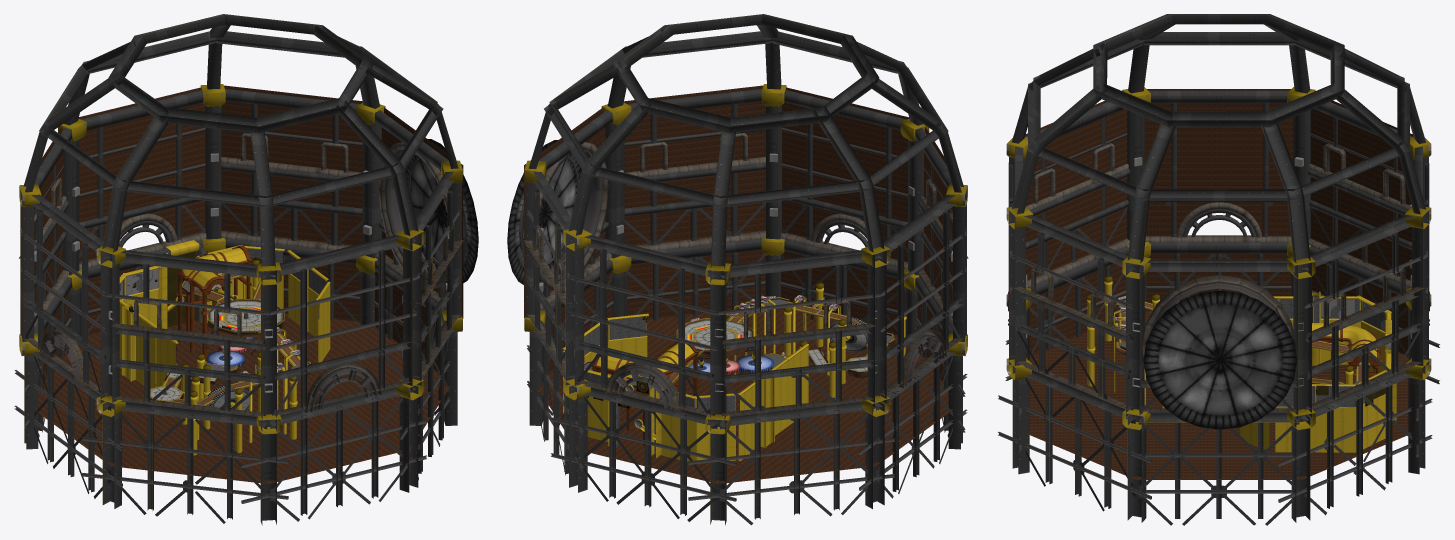
3 renders of one model, left to right at view 1: azimuth 30°, elevation 25°; view 2: azimuth 150°, elevation 25°; view 3: azimuth 270°, elevation 25°, orthographic.
Parts seen in each view (by area): view 1: obj_steelMesh, obj_brickMesh, obj_parts1Mesh, obj_poleMesh, obj_glassMesh, obj_woodwallMesh, obj_clockMesh, obj_metalMesh, obj_roadMesh.001, obj_wallinsideMesh, obj_edgeMesh; view 2: obj_steelMesh, obj_brickMesh, obj_parts1Mesh, obj_poleMesh, obj_glassMesh, obj_metalMesh, obj_clockMesh, obj_woodwallMesh, obj_edgeMesh, obj_gearblueMesh, obj_roadMesh.001; view 3: obj_steelMesh, obj_brickMesh, obj_parts1Mesh, obj_glassMesh, obj_poleMesh, obj_metalMesh, obj_woodwallMesh, obj_roadMesh.001.
Part boxes in pixels (<box>): obj_steelMesh: <box>20,14,461,525</box>; obj_brickMesh: <box>22,85,463,483</box>; obj_parts1Mesh: <box>14,84,470,523</box>; obj_poleMesh: <box>119,240,330,455</box>; obj_glassMesh: <box>405,139,478,282</box>; obj_woodwallMesh: <box>176,245,252,361</box>; obj_clockMesh: <box>150,300,282,401</box>; obj_metalMesh: <box>119,245,327,405</box>; obj_roadMesh.001: <box>163,274,300,405</box>; obj_wallinsideMesh: <box>129,251,261,326</box>; obj_edgeMesh: <box>162,274,310,406</box>; obj_steelMesh: <box>525,14,966,525</box>; obj_brickMesh: <box>524,85,965,483</box>; obj_parts1Mesh: <box>516,84,968,525</box>; obj_poleMesh: <box>562,287,906,461</box>; obj_glassMesh: <box>507,140,581,284</box>; obj_metalMesh: <box>563,299,892,453</box>; obj_clockMesh: <box>678,319,867,371</box>; obj_woodwallMesh: <box>591,341,700,445</box>; obj_edgeMesh: <box>584,297,894,385</box>; obj_gearblueMesh: <box>689,355,773,372</box>; obj_roadMesh.001: <box>608,302,886,382</box>; obj_steelMesh: <box>1008,14,1429,522</box>; obj_brickMesh: <box>1025,89,1413,479</box>; obj_parts1Mesh: <box>998,86,1439,525</box>; obj_glassMesh: <box>1143,290,1296,429</box>; obj_poleMesh: <box>1087,281,1396,452</box>; obj_metalMesh: <box>1118,296,1391,407</box>; obj_woodwallMesh: <box>1312,329,1381,383</box>; obj_roadMesh.001: <box>1120,302,1361,384</box>.
Size of the model in its own units: 126204 by 115812 by 122659.
Materials: 23 (23 with a texture image).
